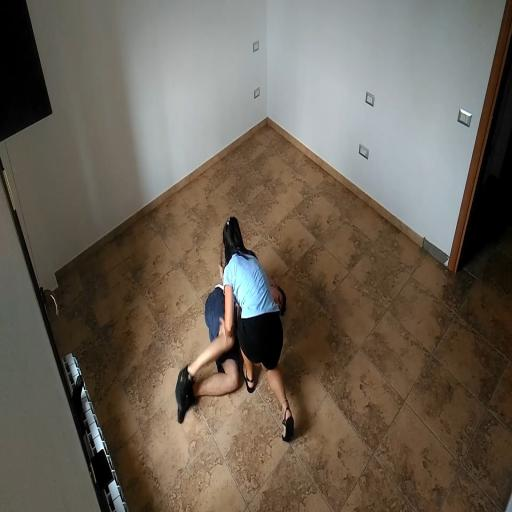violencia: (169, 201, 306, 468)
